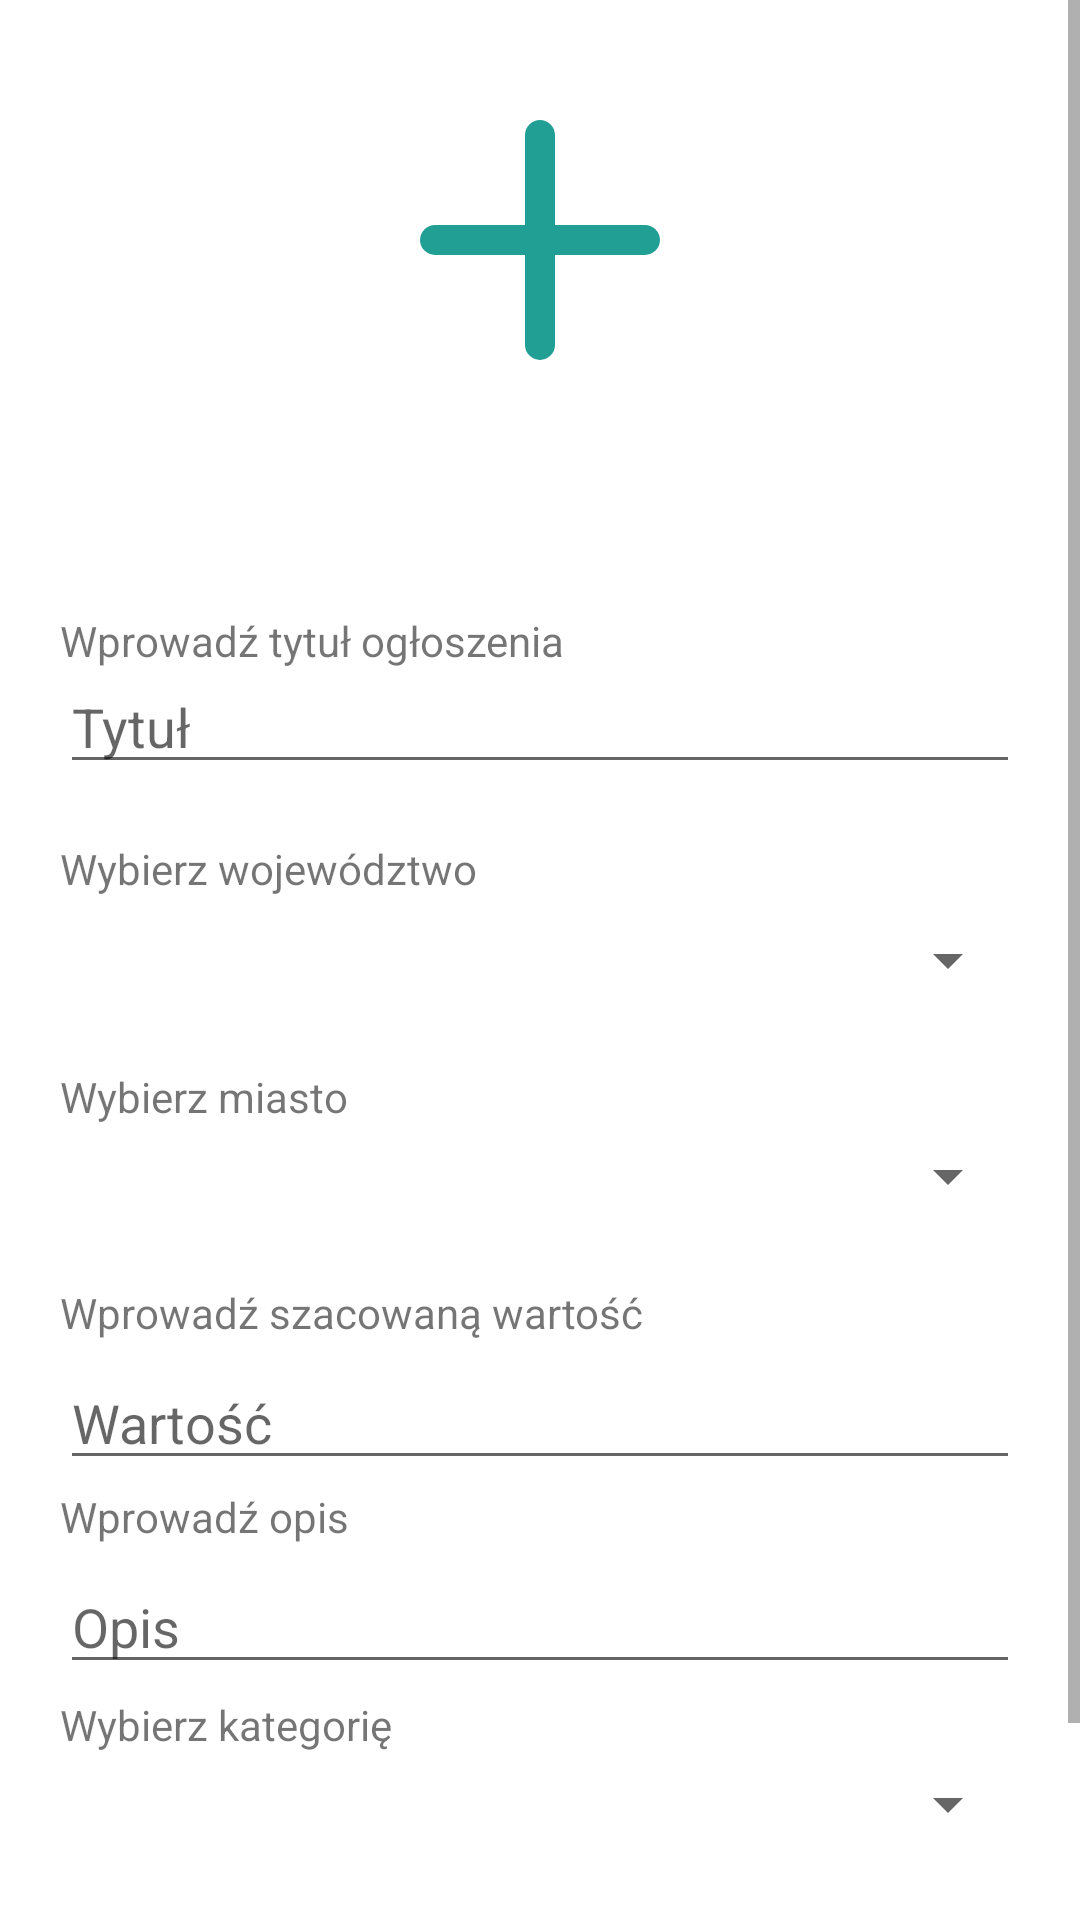

Icons on this 1080x1920 Android screen, each with its box as [x1=x1, y1=y1, x2=x2, y2=y2]:
plus: [x1=420, y1=120, x2=660, y2=360]
